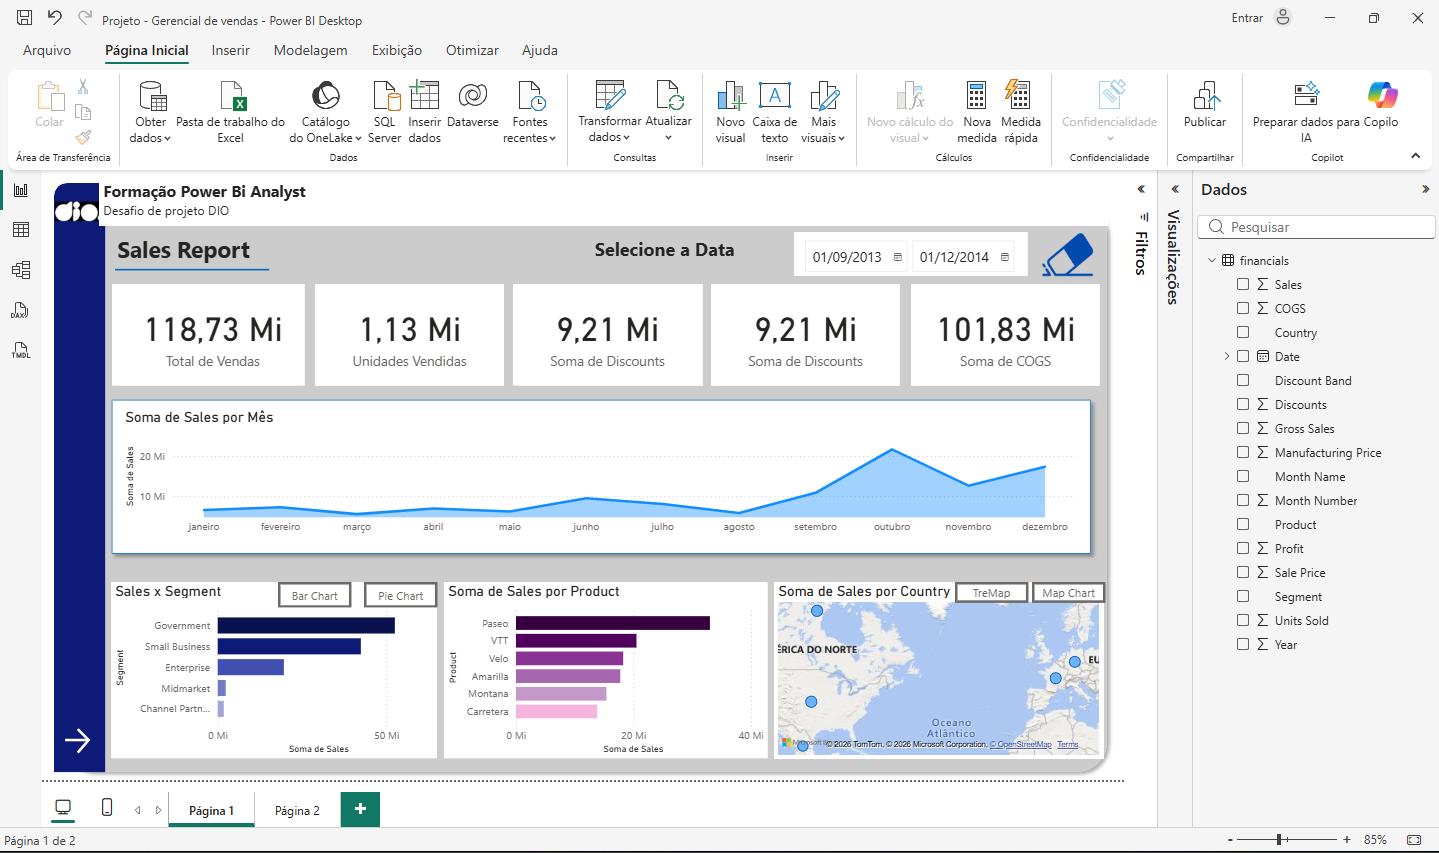

This screenshot's page, from the dashboard's own definition file:
{"tool":"powerbi","page":{"name":"Página 1","canvas":[1280,720],"ordinal":0},"visuals":[{"type":"shape","box":[17.5,31.2,1250,688.8],"z":0},{"type":"image","title":"Borrracha Clean","box":[1170.9,64.9,82.7,69.8],"z":0,"group":"g2"},{"type":"shape","box":[83.9,135.1,217.1,120.3],"z":0,"group":"g1"},{"type":"shape","box":[14.9,14.9,60.8,695.9],"z":1000},{"type":"slicer","fields":{"Values":["financials.Date"]},"box":[888.6,72.6,275.7,51.9],"z":1000,"group":"g2"},{"type":"shape","box":[795.5,135.1,217.1,120.3],"z":1000,"group":"g1"},{"type":"image","title":"Logo Dio","box":[11.5,15.3,67.6,67.6],"z":2000},{"type":"textbox","box":[598.6,72.6,275.7,51.9],"z":2000,"group":"g2"},{"type":"shape","box":[1031.6,135.1,217.1,120.3],"z":2000,"group":"g1"},{"type":"shape","box":[68.7,15.4,1192.4,50.9],"z":3000},{"type":"actionButton","box":[1170.8,70.1,83.2,64.5],"z":3000,"group":"g2"},{"type":"shape","box":[564.1,135.1,217.1,120.3],"z":3000,"group":"g1"},{"type":"textbox","box":[68.7,7.1,545.9,58],"z":4000},{"type":"shape","box":[323.1,135.1,223,120.3],"z":4000,"group":"g1"},{"type":"group","id":"g1","title":"Cartões","box":[83.9,135.1,1164.9,120.3],"z":5000},{"type":"shape","box":[87.9,82.8,182.1,70],"z":6000},{"type":"textbox","box":[85,70,185,46.2],"z":7000},{"type":"shape","box":[73.9,262.6,1174.2,200.2],"z":8000},{"type":"shape","box":[85.1,486.5,382.4,208.1],"z":9000},{"type":"shape","box":[475.7,486.5,382.4,208.1],"z":10000},{"type":"shape","box":[866.2,486.5,382.4,208.1],"z":11000},{"type":"areaChart","fields":{"Category":["financials.Date.Variation.Hierarquia de datas.Mês"],"Y":["Sum(financials. Sales)"]},"box":[94.3,280.5,1132.1,158.1],"z":12000},{"type":"card","fields":{"Values":["Sum(financials. Sales)"]},"box":[94.3,135.1,216.7,119.8],"z":13000},{"type":"card","fields":{"Values":["Sum(financials.Units Sold)"]},"box":[323.8,135.1,223.1,119.8],"z":14000},{"type":"card","fields":{"Values":["Sum(financials.Discounts)"]},"box":[557.1,135.1,223.1,119.8],"z":15000},{"type":"card","fields":{"Values":["Sum(financials.Discounts)"]},"box":[791.7,135.1,223.1,119.8],"z":16000},{"type":"card","fields":{"Values":["Sum(financials.COGS)"]},"box":[1027.6,135.1,223.1,119.8],"z":17000},{"type":"clusteredBarChart","title":" Sales x Segment","fields":{"Y":["Sum(financials. Sales)"],"Category":["financials.Segment"]},"box":[82.9,487,385,207.8],"z":18000},{"type":"clusteredBarChart","fields":{"Y":["Sum(financials. Sales)"],"Category":["financials.Product"]},"box":[475.5,487,382.5,207.8],"z":19000},{"type":"map","fields":{"Category":["financials.Country"],"Size":["Sum(financials. Sales)"]},"box":[865.4,486.6,389.3,208.7],"z":20000},{"type":"group","id":"g2","title":"Filtro por Data","box":[598.6,64.9,655.4,69.8],"z":21000},{"type":"actionButton","box":[22.3,654.3,45.7,39.9],"z":22000},{"type":"actionButton","title":"Botão-Bar","box":[280.3,486.6,86.8,30.5],"z":23000},{"type":"actionButton","title":"Botão-Pie","box":[381.1,486.6,86.8,30.5],"z":24000},{"type":"actionButton","title":"Tremap","box":[1078.8,486.6,86.8,24.6],"z":25000},{"type":"actionButton","title":"Map","box":[1170.3,486.6,86.8,24.6],"z":26000}]}

Visuals, with their boxes on the page's 1280x720 design canvas (x1, y1, x2, y2). These are canvas units, not pixel positions in the 1439x853 screenshot, which may show the page scaled, cropped or inside an application window:
shape: x1=18, y1=31, x2=1268, y2=720
"Borrracha Clean" image: x1=1171, y1=65, x2=1254, y2=135
shape: x1=84, y1=135, x2=301, y2=255
shape: x1=15, y1=15, x2=76, y2=711
slicer - financials.Date: x1=889, y1=73, x2=1164, y2=124
shape: x1=796, y1=135, x2=1013, y2=255
"Logo Dio" image: x1=12, y1=15, x2=79, y2=83
textbox: x1=599, y1=73, x2=874, y2=124
shape: x1=1032, y1=135, x2=1249, y2=255
shape: x1=69, y1=15, x2=1261, y2=66
actionButton: x1=1171, y1=70, x2=1254, y2=135
shape: x1=564, y1=135, x2=781, y2=255
textbox: x1=69, y1=7, x2=615, y2=65
shape: x1=323, y1=135, x2=546, y2=255
"Cartões" group: x1=84, y1=135, x2=1249, y2=255
shape: x1=88, y1=83, x2=270, y2=153
textbox: x1=85, y1=70, x2=270, y2=116
shape: x1=74, y1=263, x2=1248, y2=463
shape: x1=85, y1=486, x2=468, y2=695
shape: x1=476, y1=486, x2=858, y2=695
shape: x1=866, y1=486, x2=1249, y2=695
areaChart - financials.Date.Variation.Hierarquia de datas.Mês x Sum(financials. Sales): x1=94, y1=280, x2=1226, y2=439
card - Sum(financials. Sales): x1=94, y1=135, x2=311, y2=255
card - Sum(financials.Units Sold): x1=324, y1=135, x2=547, y2=255
card - Sum(financials.Discounts): x1=557, y1=135, x2=780, y2=255
card - Sum(financials.Discounts): x1=792, y1=135, x2=1015, y2=255
card - Sum(financials.COGS): x1=1028, y1=135, x2=1251, y2=255
" Sales x Segment" clusteredBarChart: x1=83, y1=487, x2=468, y2=695
clusteredBarChart - Sum(financials. Sales) x financials.Product: x1=476, y1=487, x2=858, y2=695
map - financials.Country x Sum(financials. Sales): x1=865, y1=487, x2=1255, y2=695
"Filtro por Data" group: x1=599, y1=65, x2=1254, y2=135
actionButton: x1=22, y1=654, x2=68, y2=694
"Botão-Bar" actionButton: x1=280, y1=487, x2=367, y2=517
"Botão-Pie" actionButton: x1=381, y1=487, x2=468, y2=517
"Tremap" actionButton: x1=1079, y1=487, x2=1166, y2=511
"Map" actionButton: x1=1170, y1=487, x2=1257, y2=511
